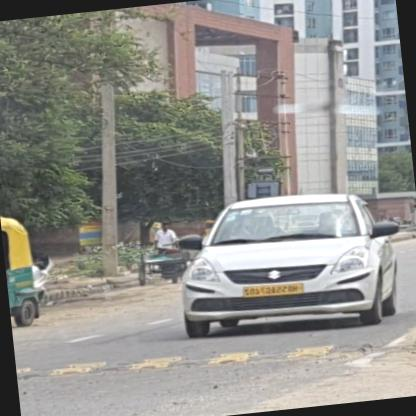car: (171, 183, 408, 345)
